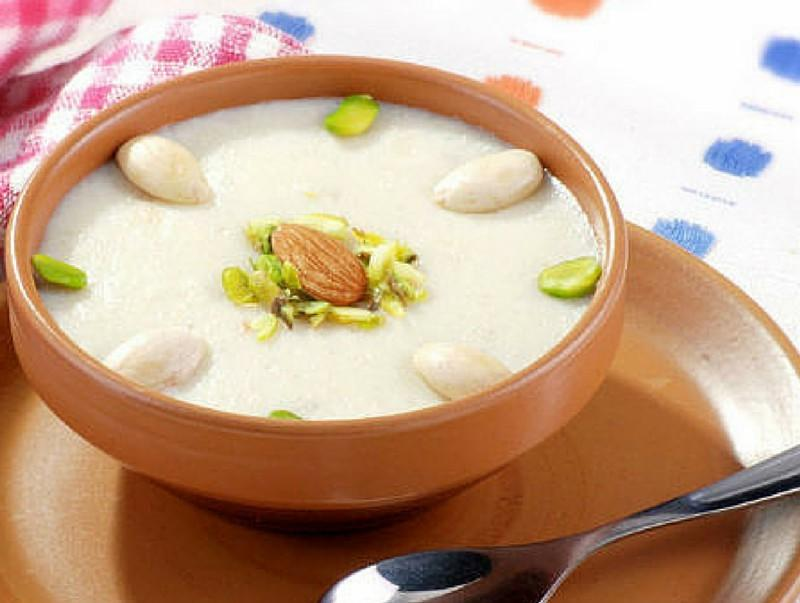Kheer: (33, 90, 605, 418)
